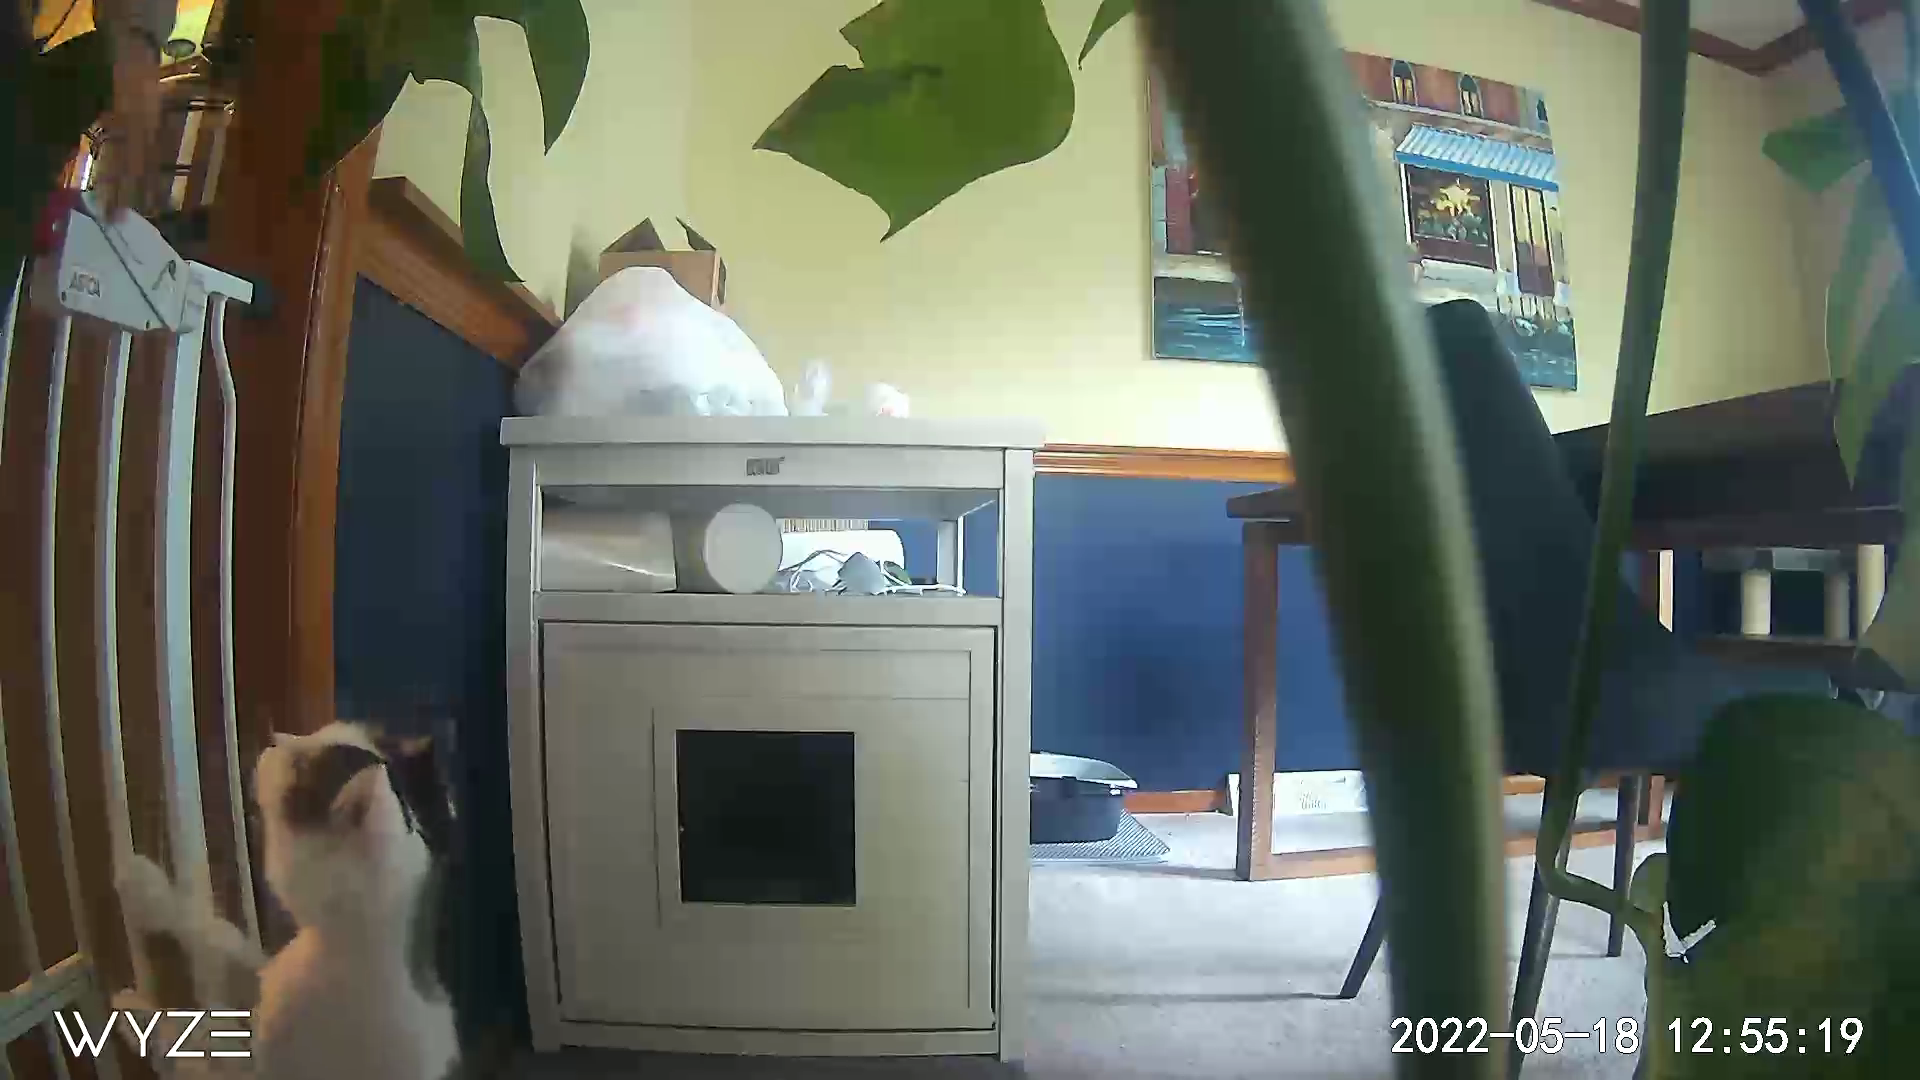maoxin: (94, 692, 468, 998)
